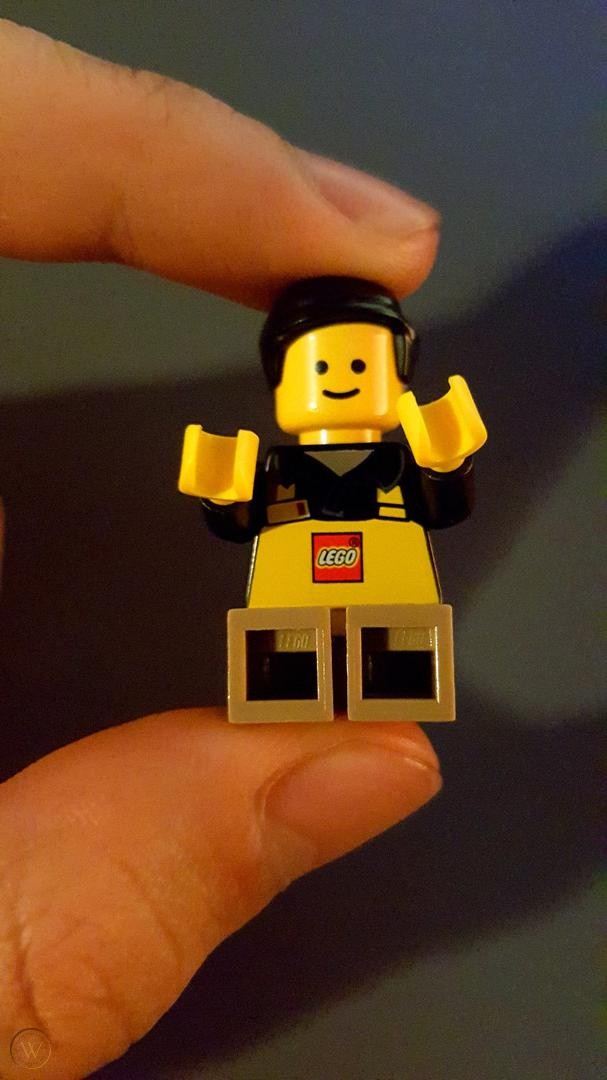lego: (158, 244, 506, 745)
